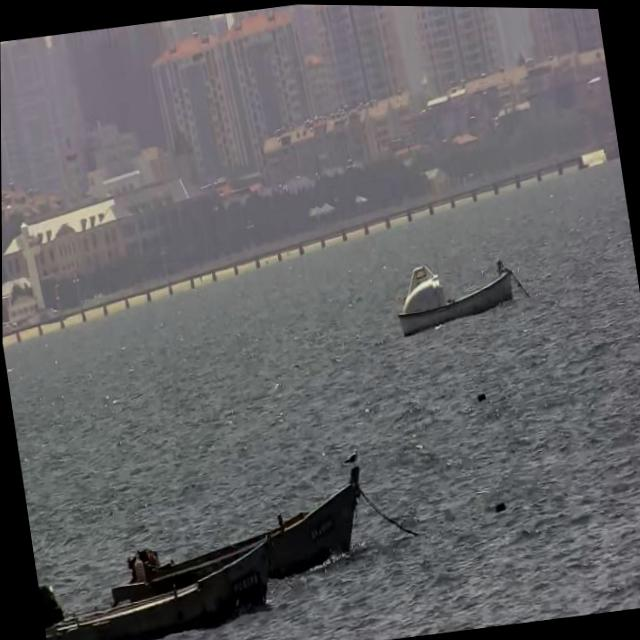ship2: (38, 535, 272, 640), (395, 262, 519, 338)
